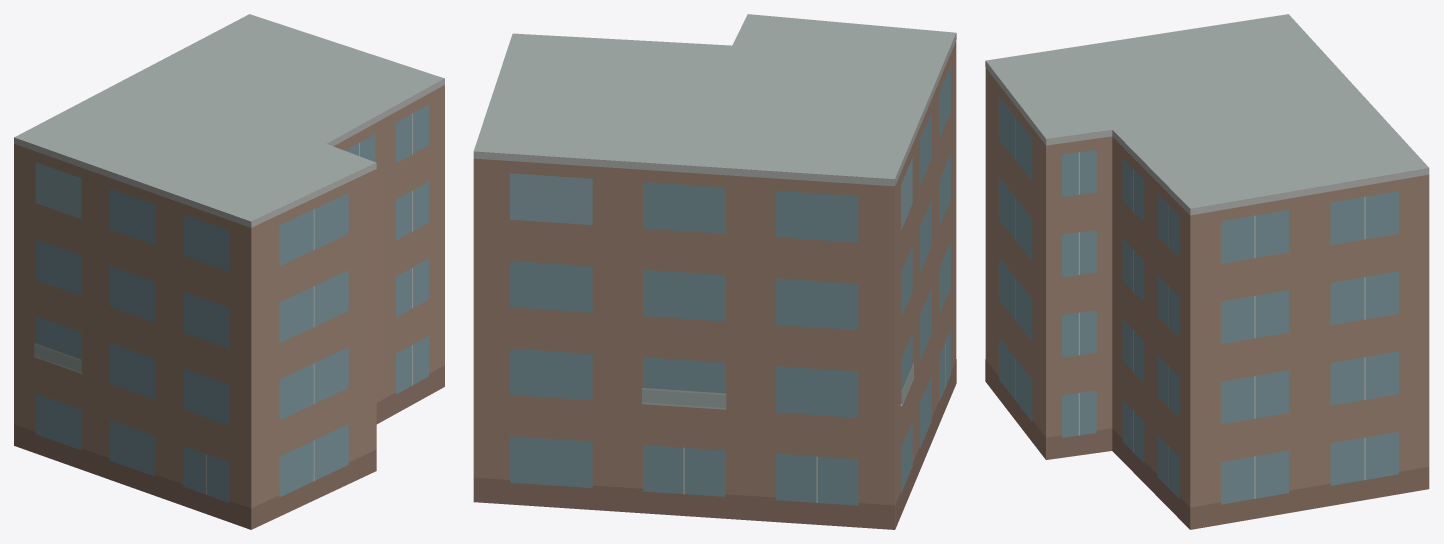
The model's file is survey-upis-32857345.glb.
The picture shows the model from 3 angles, left to right: view 1: azimuth 30°, elevation 25°; view 2: azimuth 150°, elevation 25°; view 3: azimuth 270°, elevation 25°; orthographic projection. The views are drawn at different scales.
Visible parts, largest first — view 1: survey-upis-32857345.tmp; view 2: survey-upis-32857345.tmp; view 3: survey-upis-32857345.tmp.
Part boxes in pixels (x1,y1,x2,y2): survey-upis-32857345.tmp: (14, 14, 444, 529); survey-upis-32857345.tmp: (473, 14, 956, 529); survey-upis-32857345.tmp: (985, 14, 1429, 529).
Bounding box in the file's own units: 15.5 × 11.9 × 14.92.
